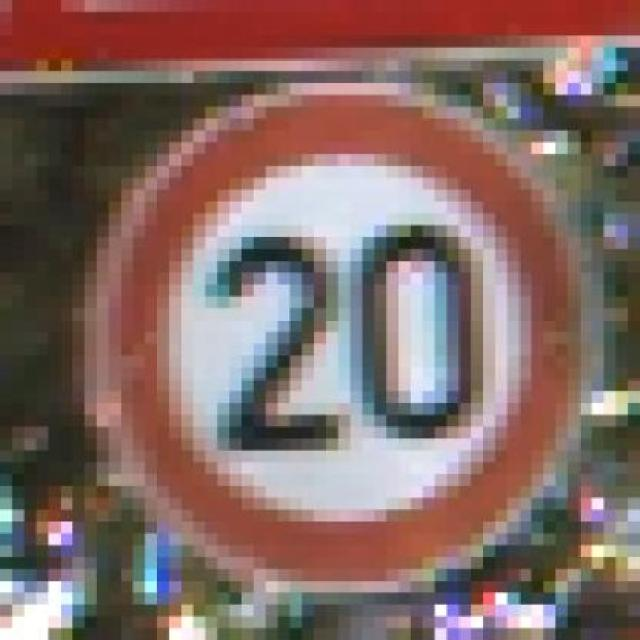forb_speed_over_20: (116, 93, 573, 579)
